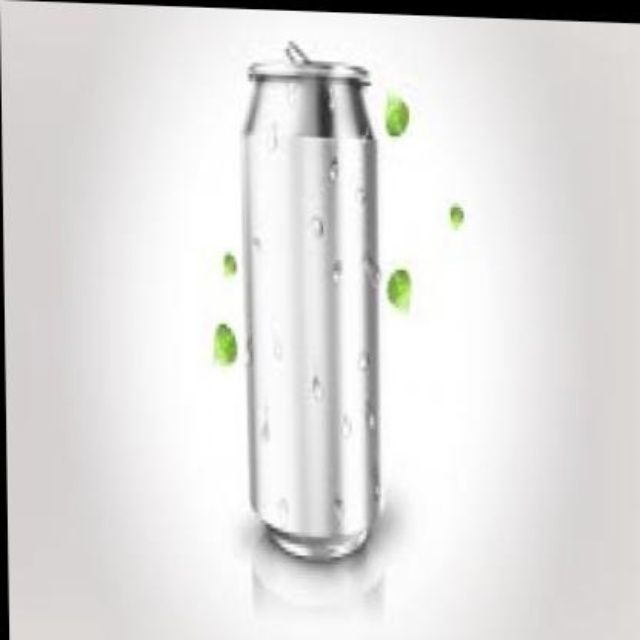trash: (245, 43, 377, 558)
